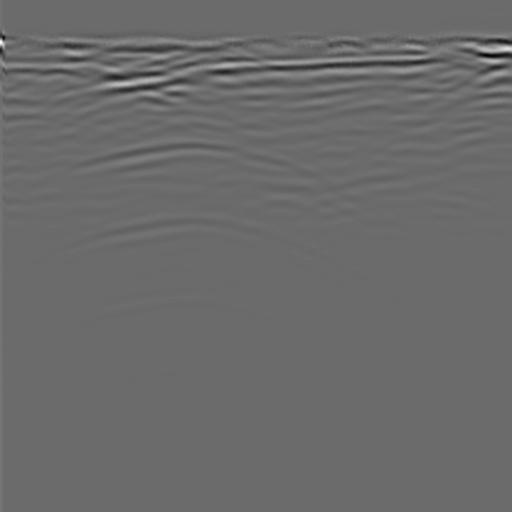hyperbola: (55, 124, 329, 273)
